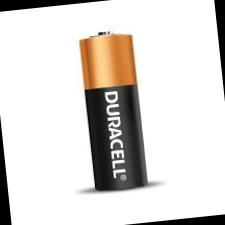battery: (48, 20, 174, 198)
